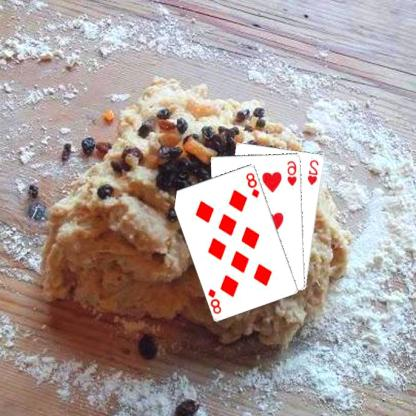2H: (307, 157, 322, 186)
6H: (287, 158, 300, 186)
8D: (245, 170, 263, 199), (208, 286, 224, 314)
